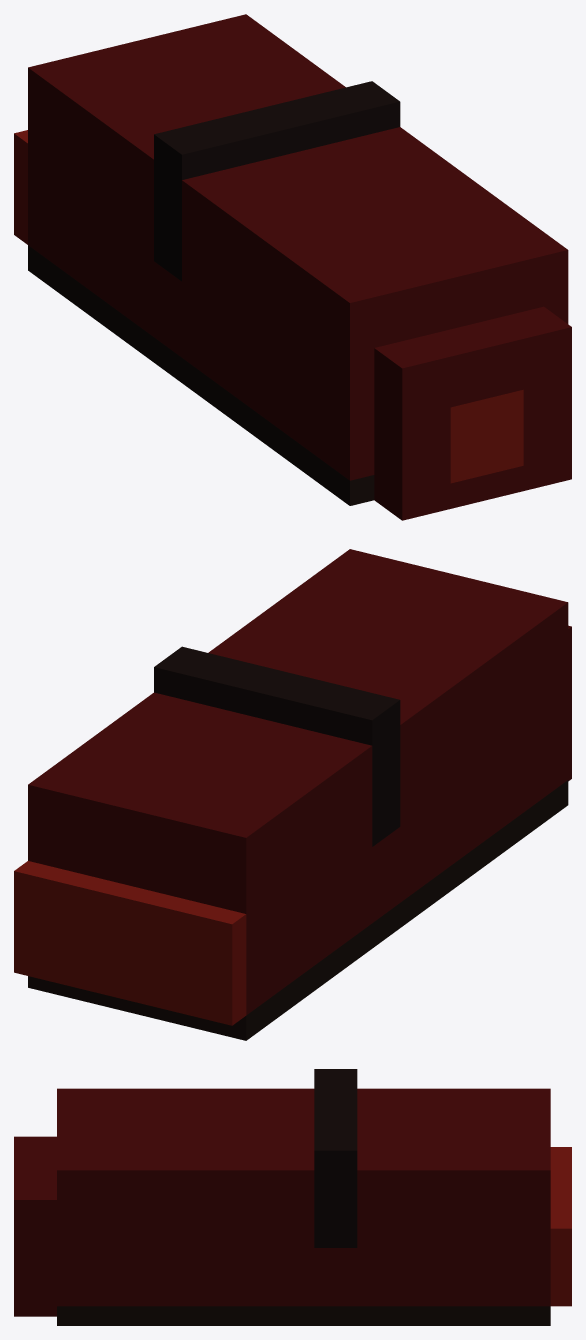
File: cloth_masterwork_boot_foot_L.glb
3 views of the same model, one above another, from view 1: azimuth 30°, elevation 25°; view 2: azimuth 150°, elevation 25°; view 3: azimuth 270°, elevation 25° (orthographic). The views are drawn at different scales.
Visible parts, largest first — view 1: cloth_masterwork_boot_foot_L; view 2: cloth_masterwork_boot_foot_L; view 3: cloth_masterwork_boot_foot_L.
Part boxes in pixels (box(x1,y1,x2,y2)): cloth_masterwork_boot_foot_L: box(14, 14, 571, 520); cloth_masterwork_boot_foot_L: box(14, 549, 571, 1040); cloth_masterwork_boot_foot_L: box(14, 1069, 571, 1325).
Size of the model in its own units: 0.108 by 0.108 by 0.312.
